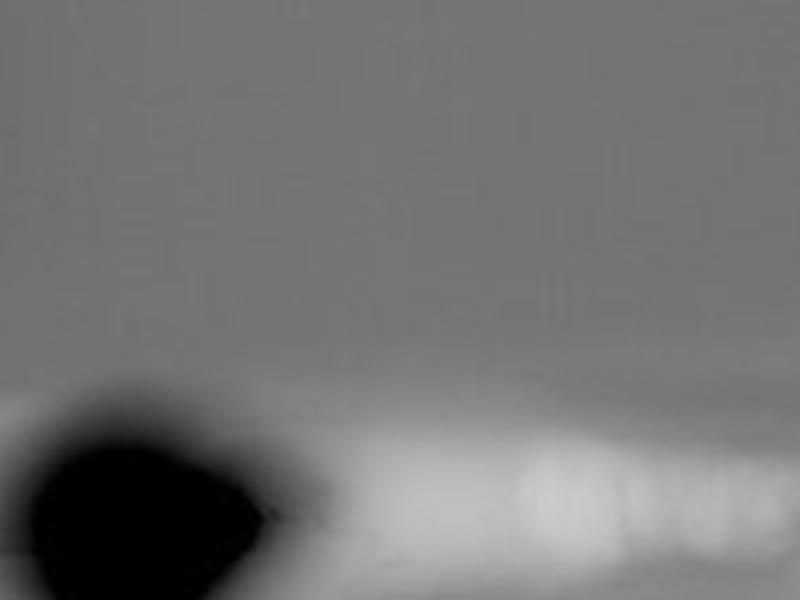defect: (24, 431, 270, 600)
